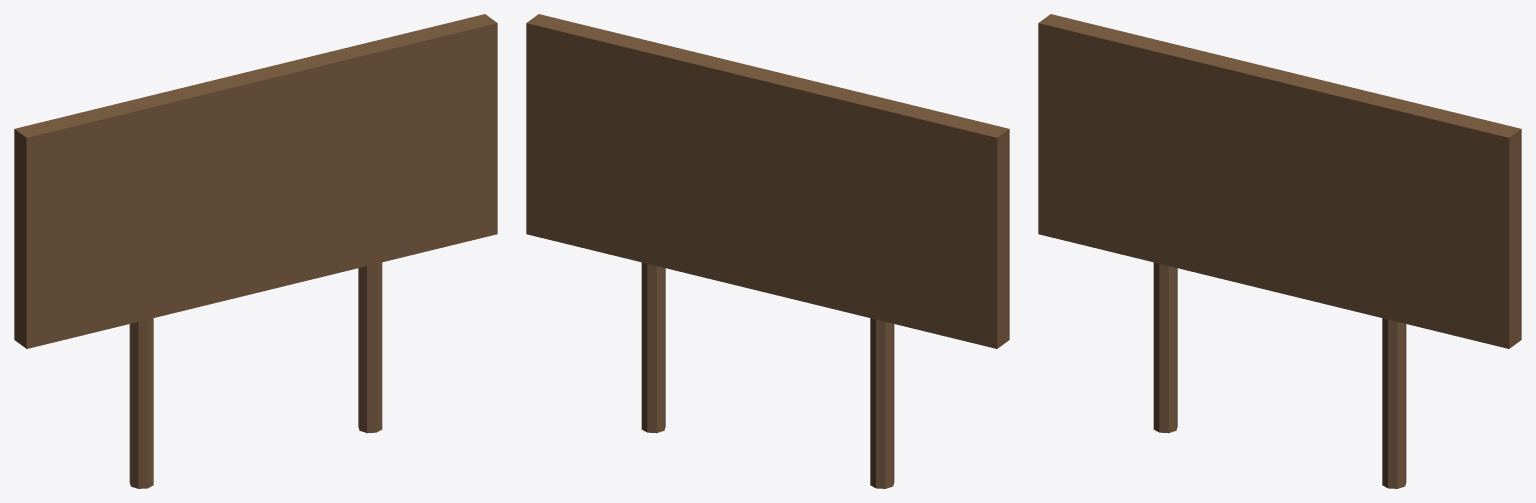
The model's file is cartel_z1_lev1.glb.
The picture shows the model from 3 angles, left to right: view 1: azimuth 30°, elevation 25°; view 2: azimuth 150°, elevation 25°; view 3: azimuth 330°, elevation 25°; orthographic projection.
Visible parts, largest first — view 1: cartel_z1_lev1; view 2: cartel_z1_lev1; view 3: cartel_z1_lev1.
Part boxes in pixels (<box>): cartel_z1_lev1: <box>14,14,497,488</box>; cartel_z1_lev1: <box>526,14,1009,488</box>; cartel_z1_lev1: <box>1038,14,1521,488</box>.
Size of the model in its own units: 3.5 by 2.7 by 0.16.
